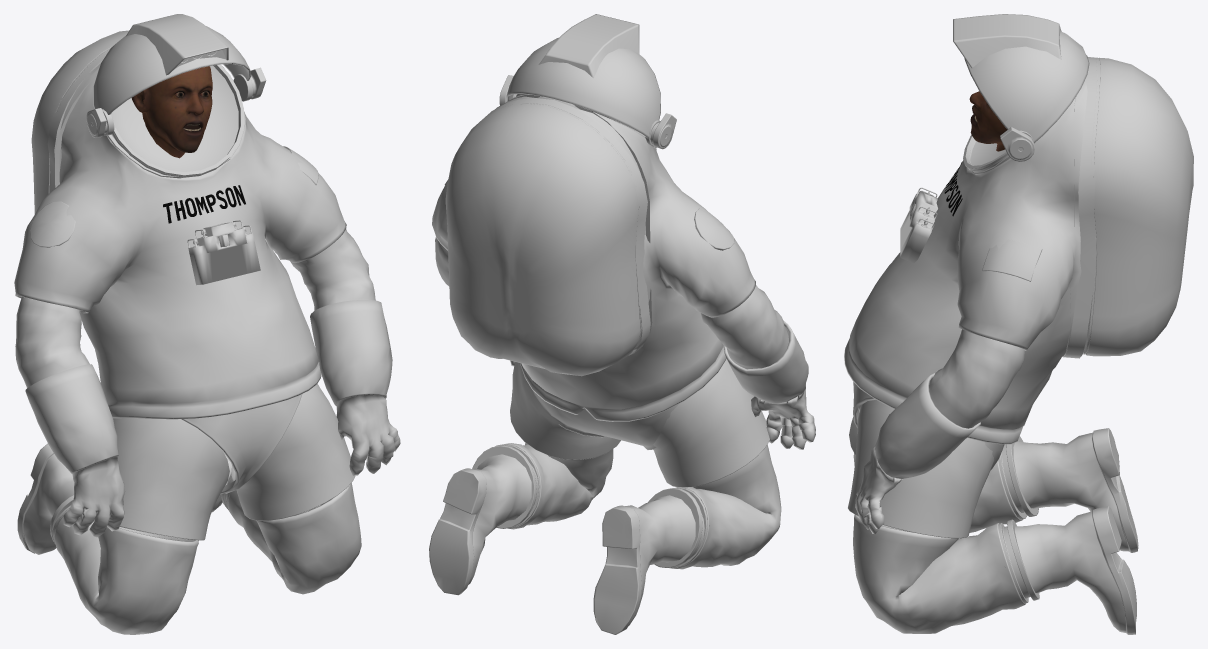
Rendered from ThompsonBody.fbx.
3 renders of one model, left to right at view 1: azimuth 30°, elevation 25°; view 2: azimuth 150°, elevation 25°; view 3: azimuth 270°, elevation 25°, orthographic. The views are drawn at different scales.
Visible parts, largest first — view 1: ThompsonBody; view 2: ThompsonBody; view 3: ThompsonBody.
Boxes of the visible parts, <box> form: ThompsonBody: <box>14,14,400,634</box>; ThompsonBody: <box>429,14,815,634</box>; ThompsonBody: <box>844,14,1193,634</box>.
Bounding box in the file's own units: 0.9395 × 1.41 × 0.7895.
